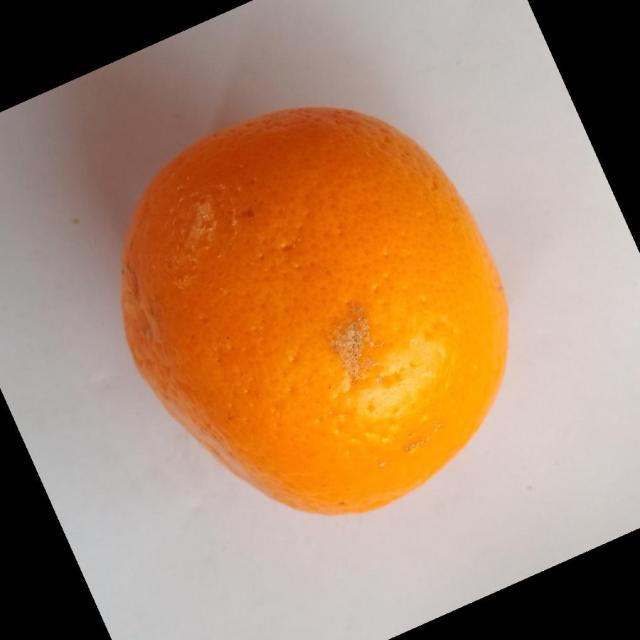fresh orange: (119, 105, 510, 516)
